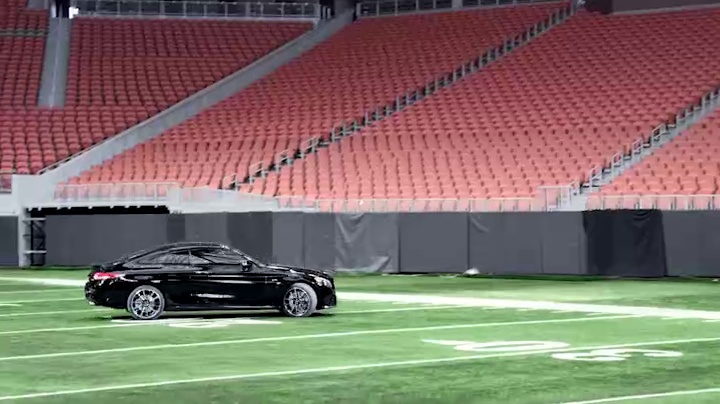amg: (85, 240, 341, 319)
